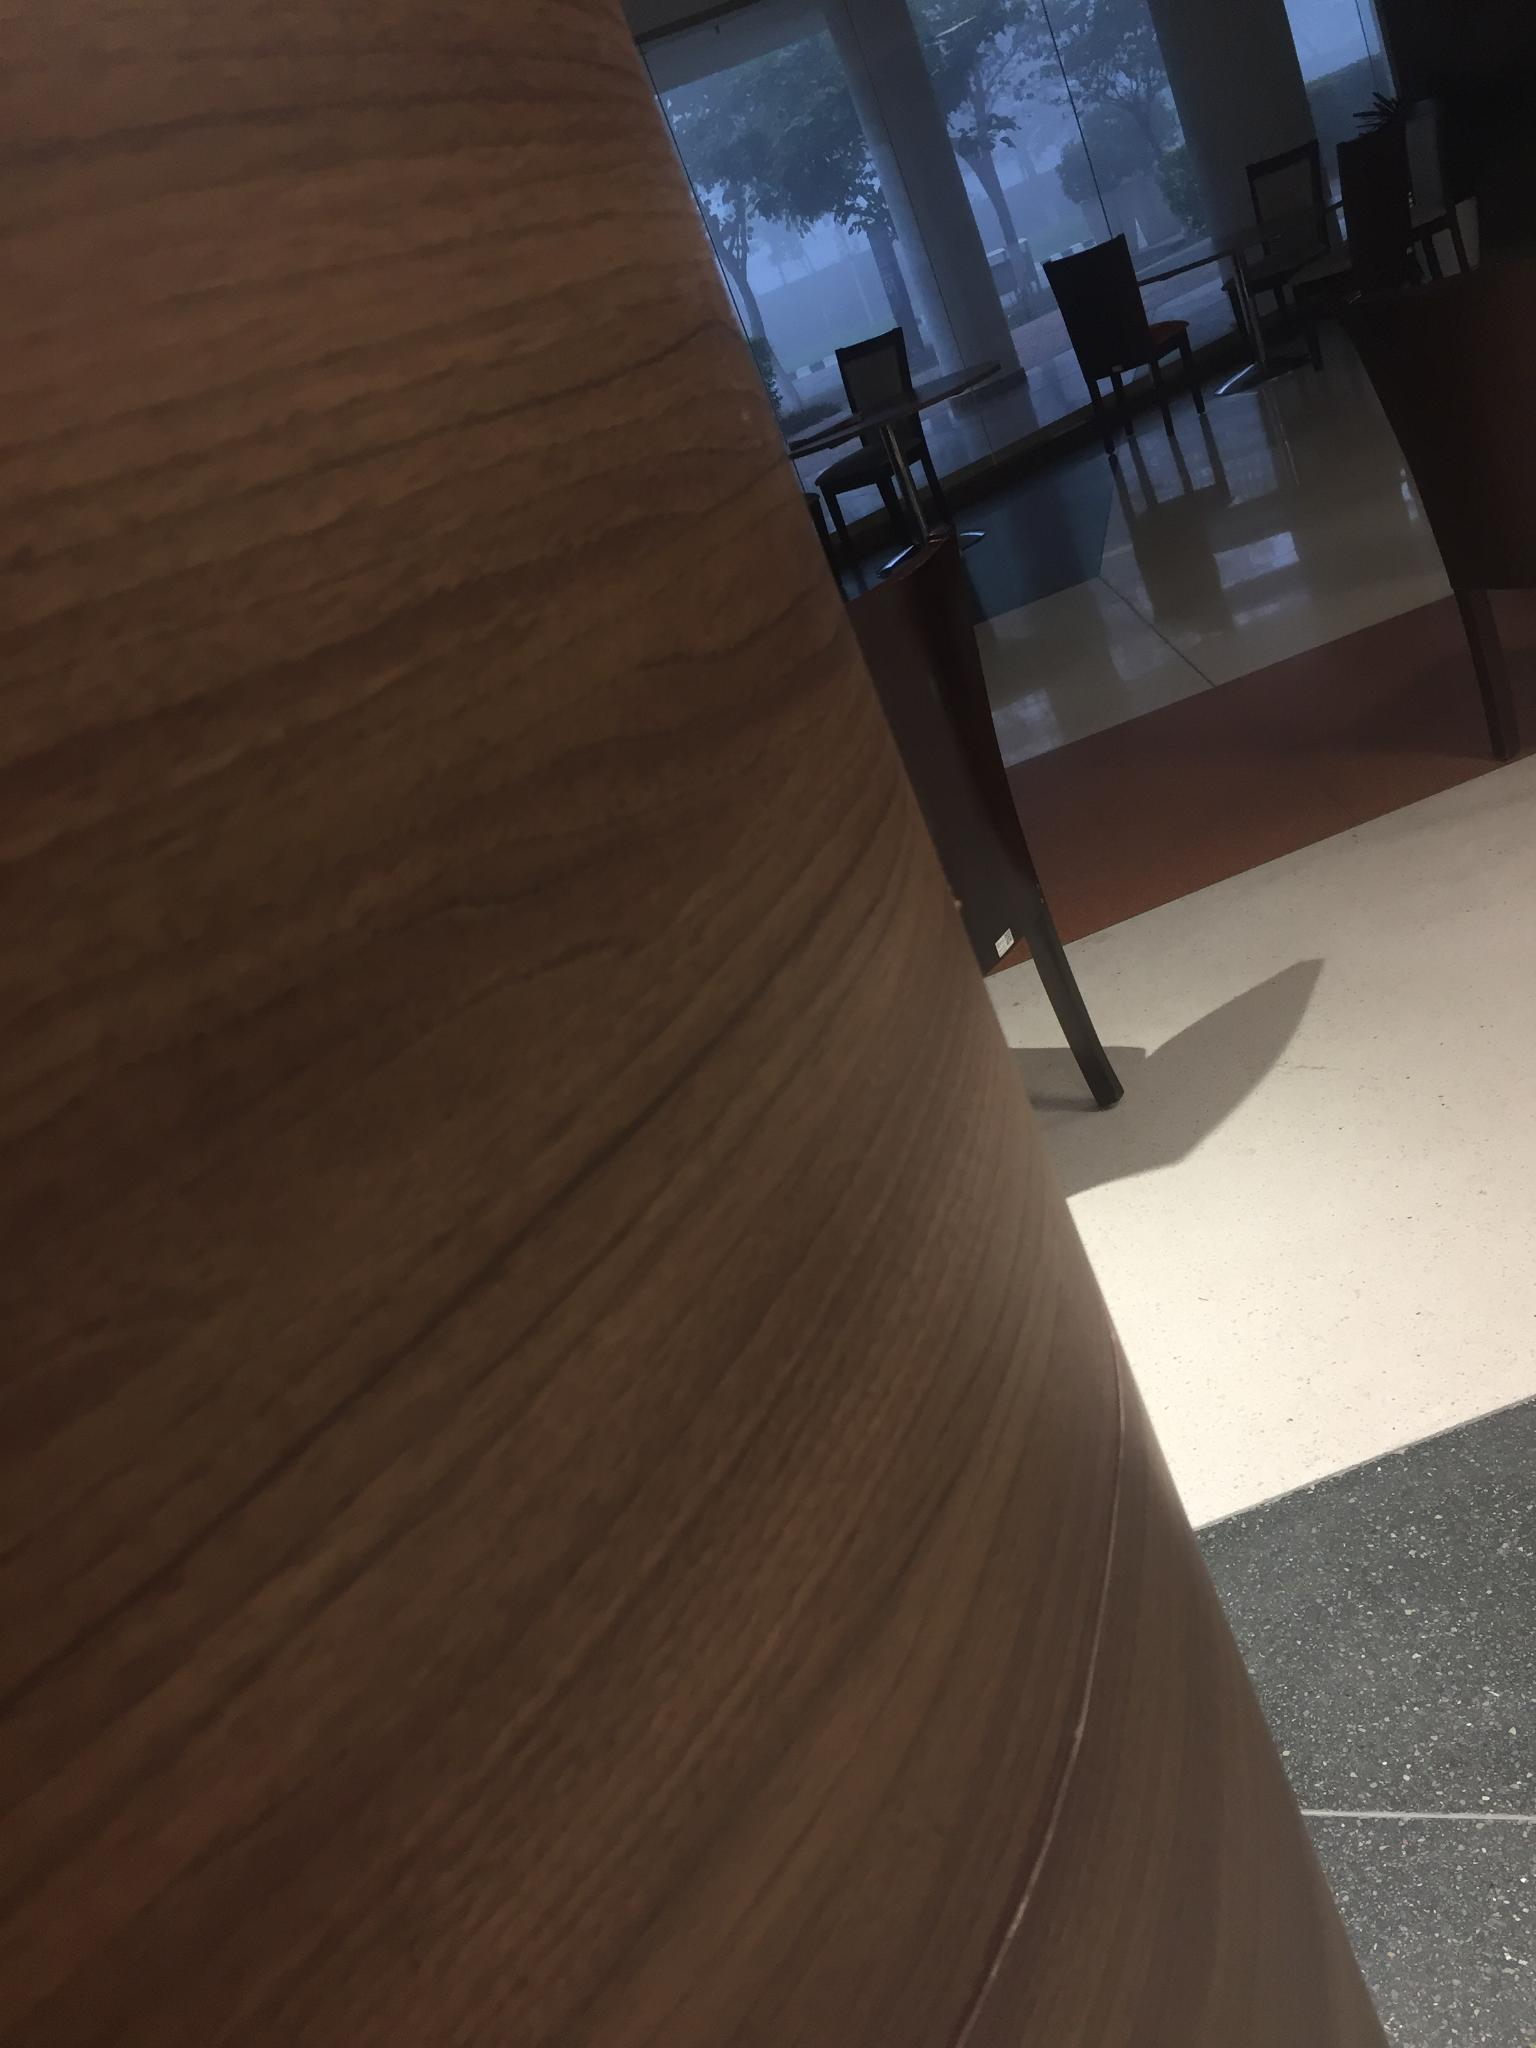chair: (774, 553, 1136, 1108), (1042, 232, 1215, 493), (1299, 111, 1428, 439), (829, 327, 962, 547), (1228, 140, 1344, 347)
